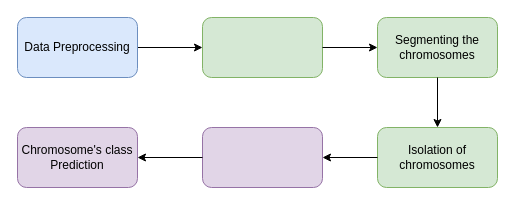
Image size: 515x205. Some labels were removed from this diagram. The centre of each missing label's shape, as x and y in pixels:
"Train chromosomes classifier" goes at [262,157].
"Train U-Net for Mask" goes at [262,47].
